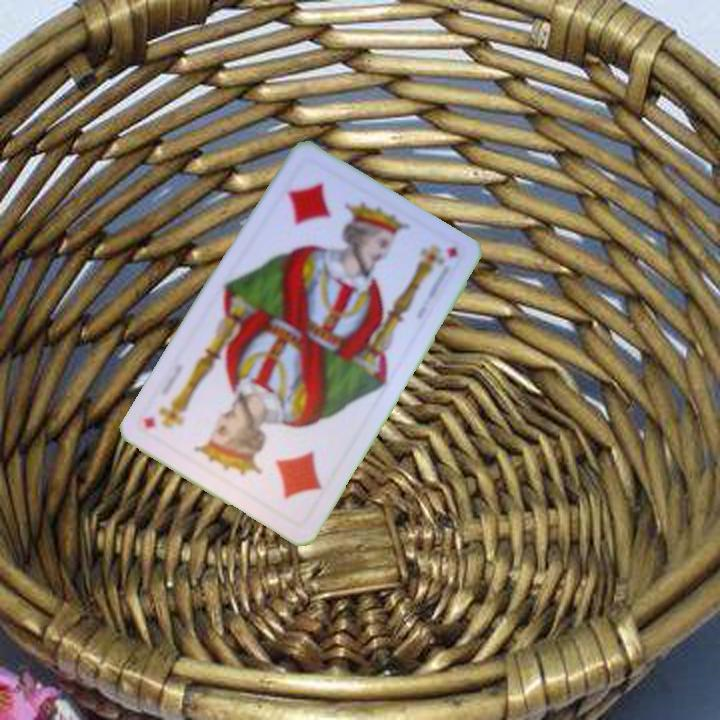d_k.png: (258, 155, 385, 278), (217, 406, 344, 529)
